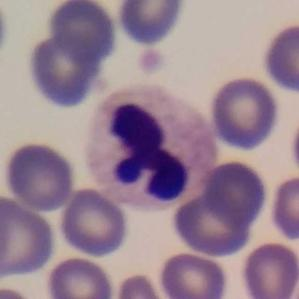Neutrophil: (76, 78, 220, 217)
Platelets: (136, 46, 168, 76)
RBC: (23, 30, 111, 111), (168, 183, 260, 258), (206, 74, 282, 152), (1, 139, 77, 213), (57, 186, 131, 259), (0, 192, 58, 281), (201, 158, 271, 228), (44, 0, 120, 64), (114, 0, 191, 50), (156, 250, 230, 299), (238, 239, 298, 299), (43, 254, 117, 299), (259, 20, 299, 95), (267, 174, 299, 241), (111, 270, 170, 299), (0, 283, 39, 299)
